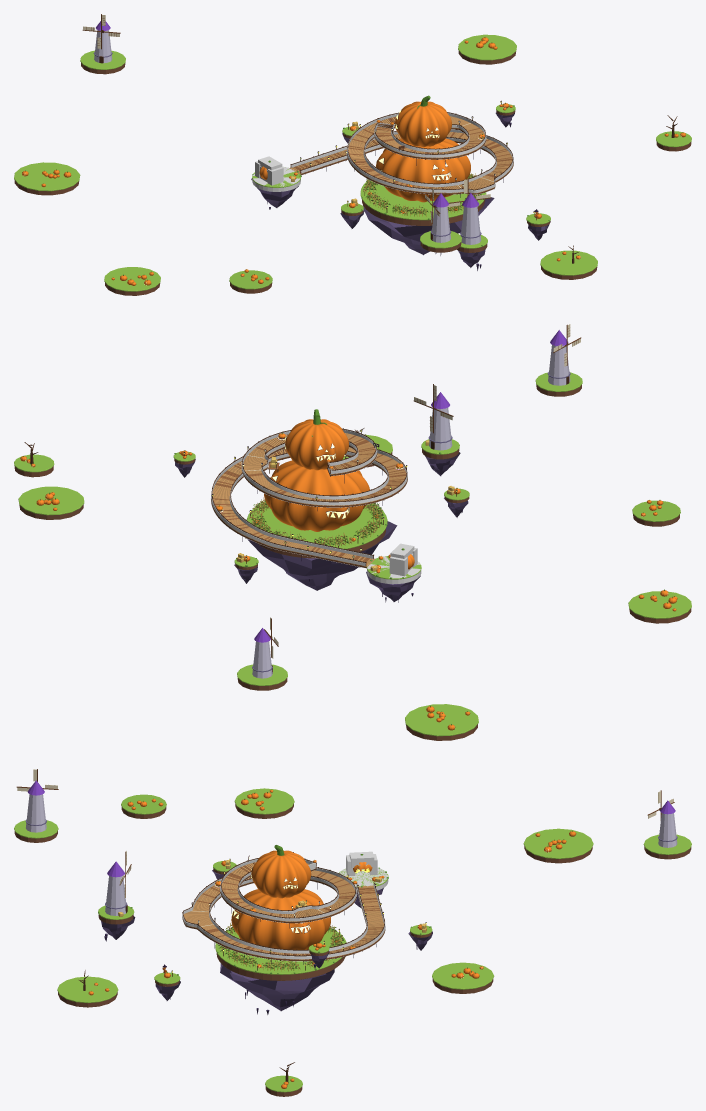
3 views of the same model, one above another, from view 1: azimuth 30°, elevation 25°; view 2: azimuth 150°, elevation 25°; view 3: azimuth 270°, elevation 25° (orthographic). The views are drawn at different scales.
Visible parts, largest first — view 1: V_grass, V_pumpkin, C_0, V_plank, V_dirt, V_rock, V_stone_light, V_beam_dark, V_plank_dark, V_beam, C_1; view 2: V_grass, V_pumpkin, C_0, V_plank, V_rock, V_dirt, V_stone_light, V_beam_dark, V_plank_dark, V_beam, V_hay, C_1 (+1 smaller); view 3: V_grass, V_pumpkin, V_plank, C_0, V_dirt, V_rock, V_stone_light, V_beam_dark, V_plank_dark, V_beam, C_1, V_hay.
Boxes of the visible parts, box(x1,y1,x2,y2) form: V_grass: box(14, 34, 691, 291); V_pumpkin: box(22, 37, 685, 285); C_0: box(252, 112, 513, 194); V_plank: box(289, 116, 513, 193); V_dirt: box(14, 51, 691, 295); V_rock: box(251, 112, 550, 267); V_stone_light: box(94, 30, 481, 244); V_beam_dark: box(99, 56, 677, 263); V_plank_dark: box(294, 117, 512, 193); V_beam: box(290, 115, 537, 220); C_1: box(255, 156, 283, 185); V_grass: box(14, 372, 691, 736); V_pumpkin: box(20, 419, 677, 730); C_0: box(210, 429, 421, 584); V_plank: box(211, 433, 407, 566); V_rock: box(175, 452, 468, 601); V_dirt: box(14, 385, 691, 740); V_stone_light: box(252, 345, 570, 678); V_beam_dark: box(24, 376, 569, 673); V_plank_dark: box(211, 434, 407, 565); V_beam: box(211, 429, 407, 568); V_hay: box(236, 440, 454, 571); C_1: box(389, 543, 417, 576); V_grass: box(14, 788, 691, 1092); V_pumpkin: box(88, 789, 576, 1088); V_plank: box(183, 862, 384, 959); C_0: box(182, 859, 388, 961); V_dirt: box(14, 804, 691, 1096); V_rock: box(101, 870, 432, 1011); V_stone_light: box(26, 794, 677, 915); V_beam_dark: box(79, 852, 426, 1082); V_plank_dark: box(196, 862, 383, 959); V_beam: box(163, 855, 385, 970); C_1: box(346, 851, 377, 875); V_hay: box(118, 860, 426, 971).
Size of the model in its own units: 169 by 49.03 by 160.
